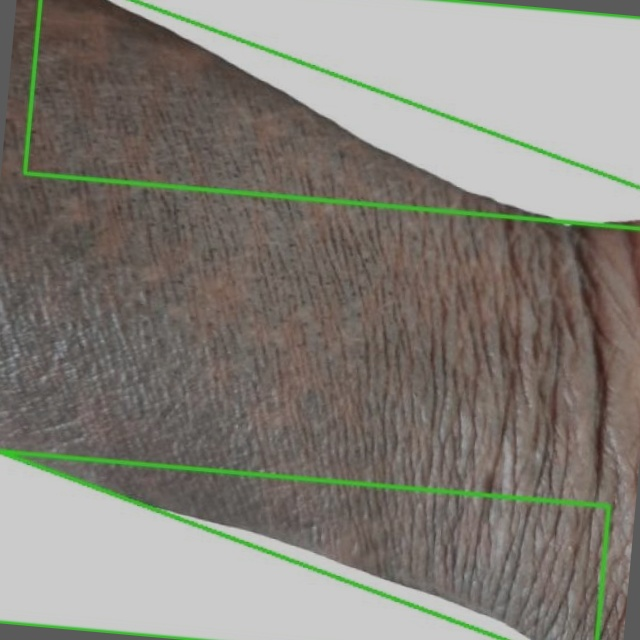Eczema: (0, 0, 639, 639), (24, 0, 639, 228), (0, 451, 608, 639)
